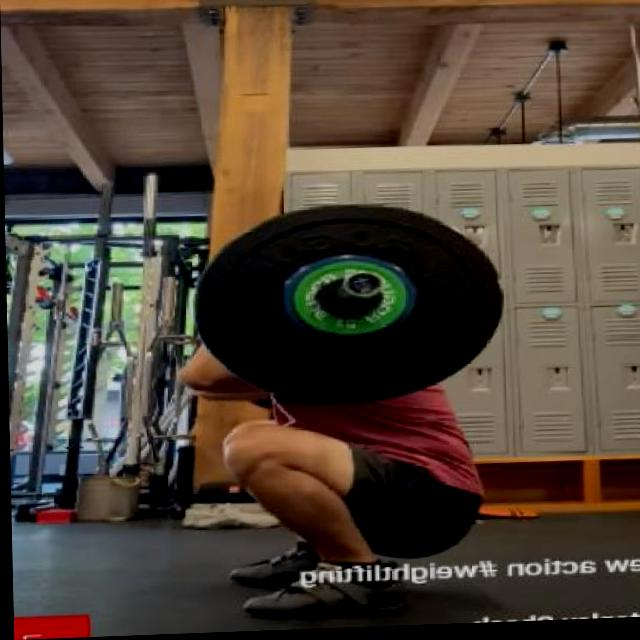barbell: (185, 197, 508, 414)
